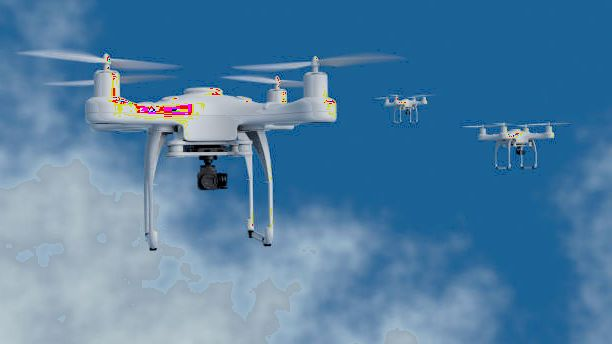Drone: (17, 42, 402, 195), (459, 118, 566, 173), (375, 90, 436, 128)
